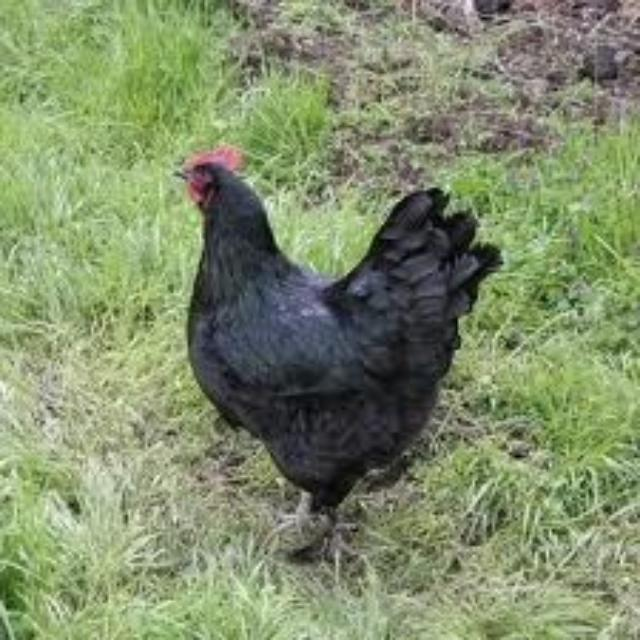Chicken: (173, 144, 505, 565)
